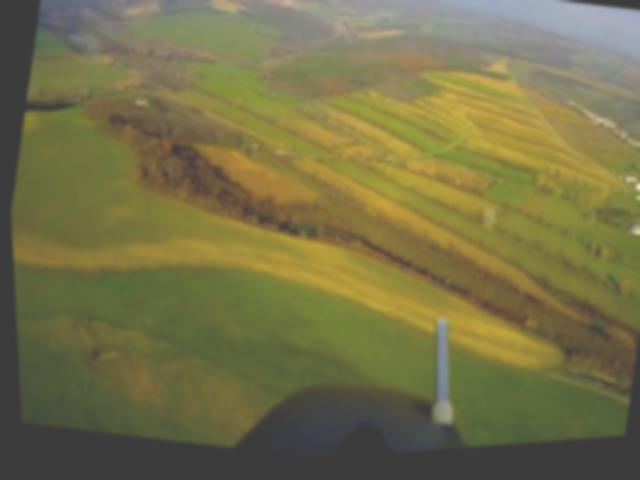iha: (346, 82, 371, 93)
